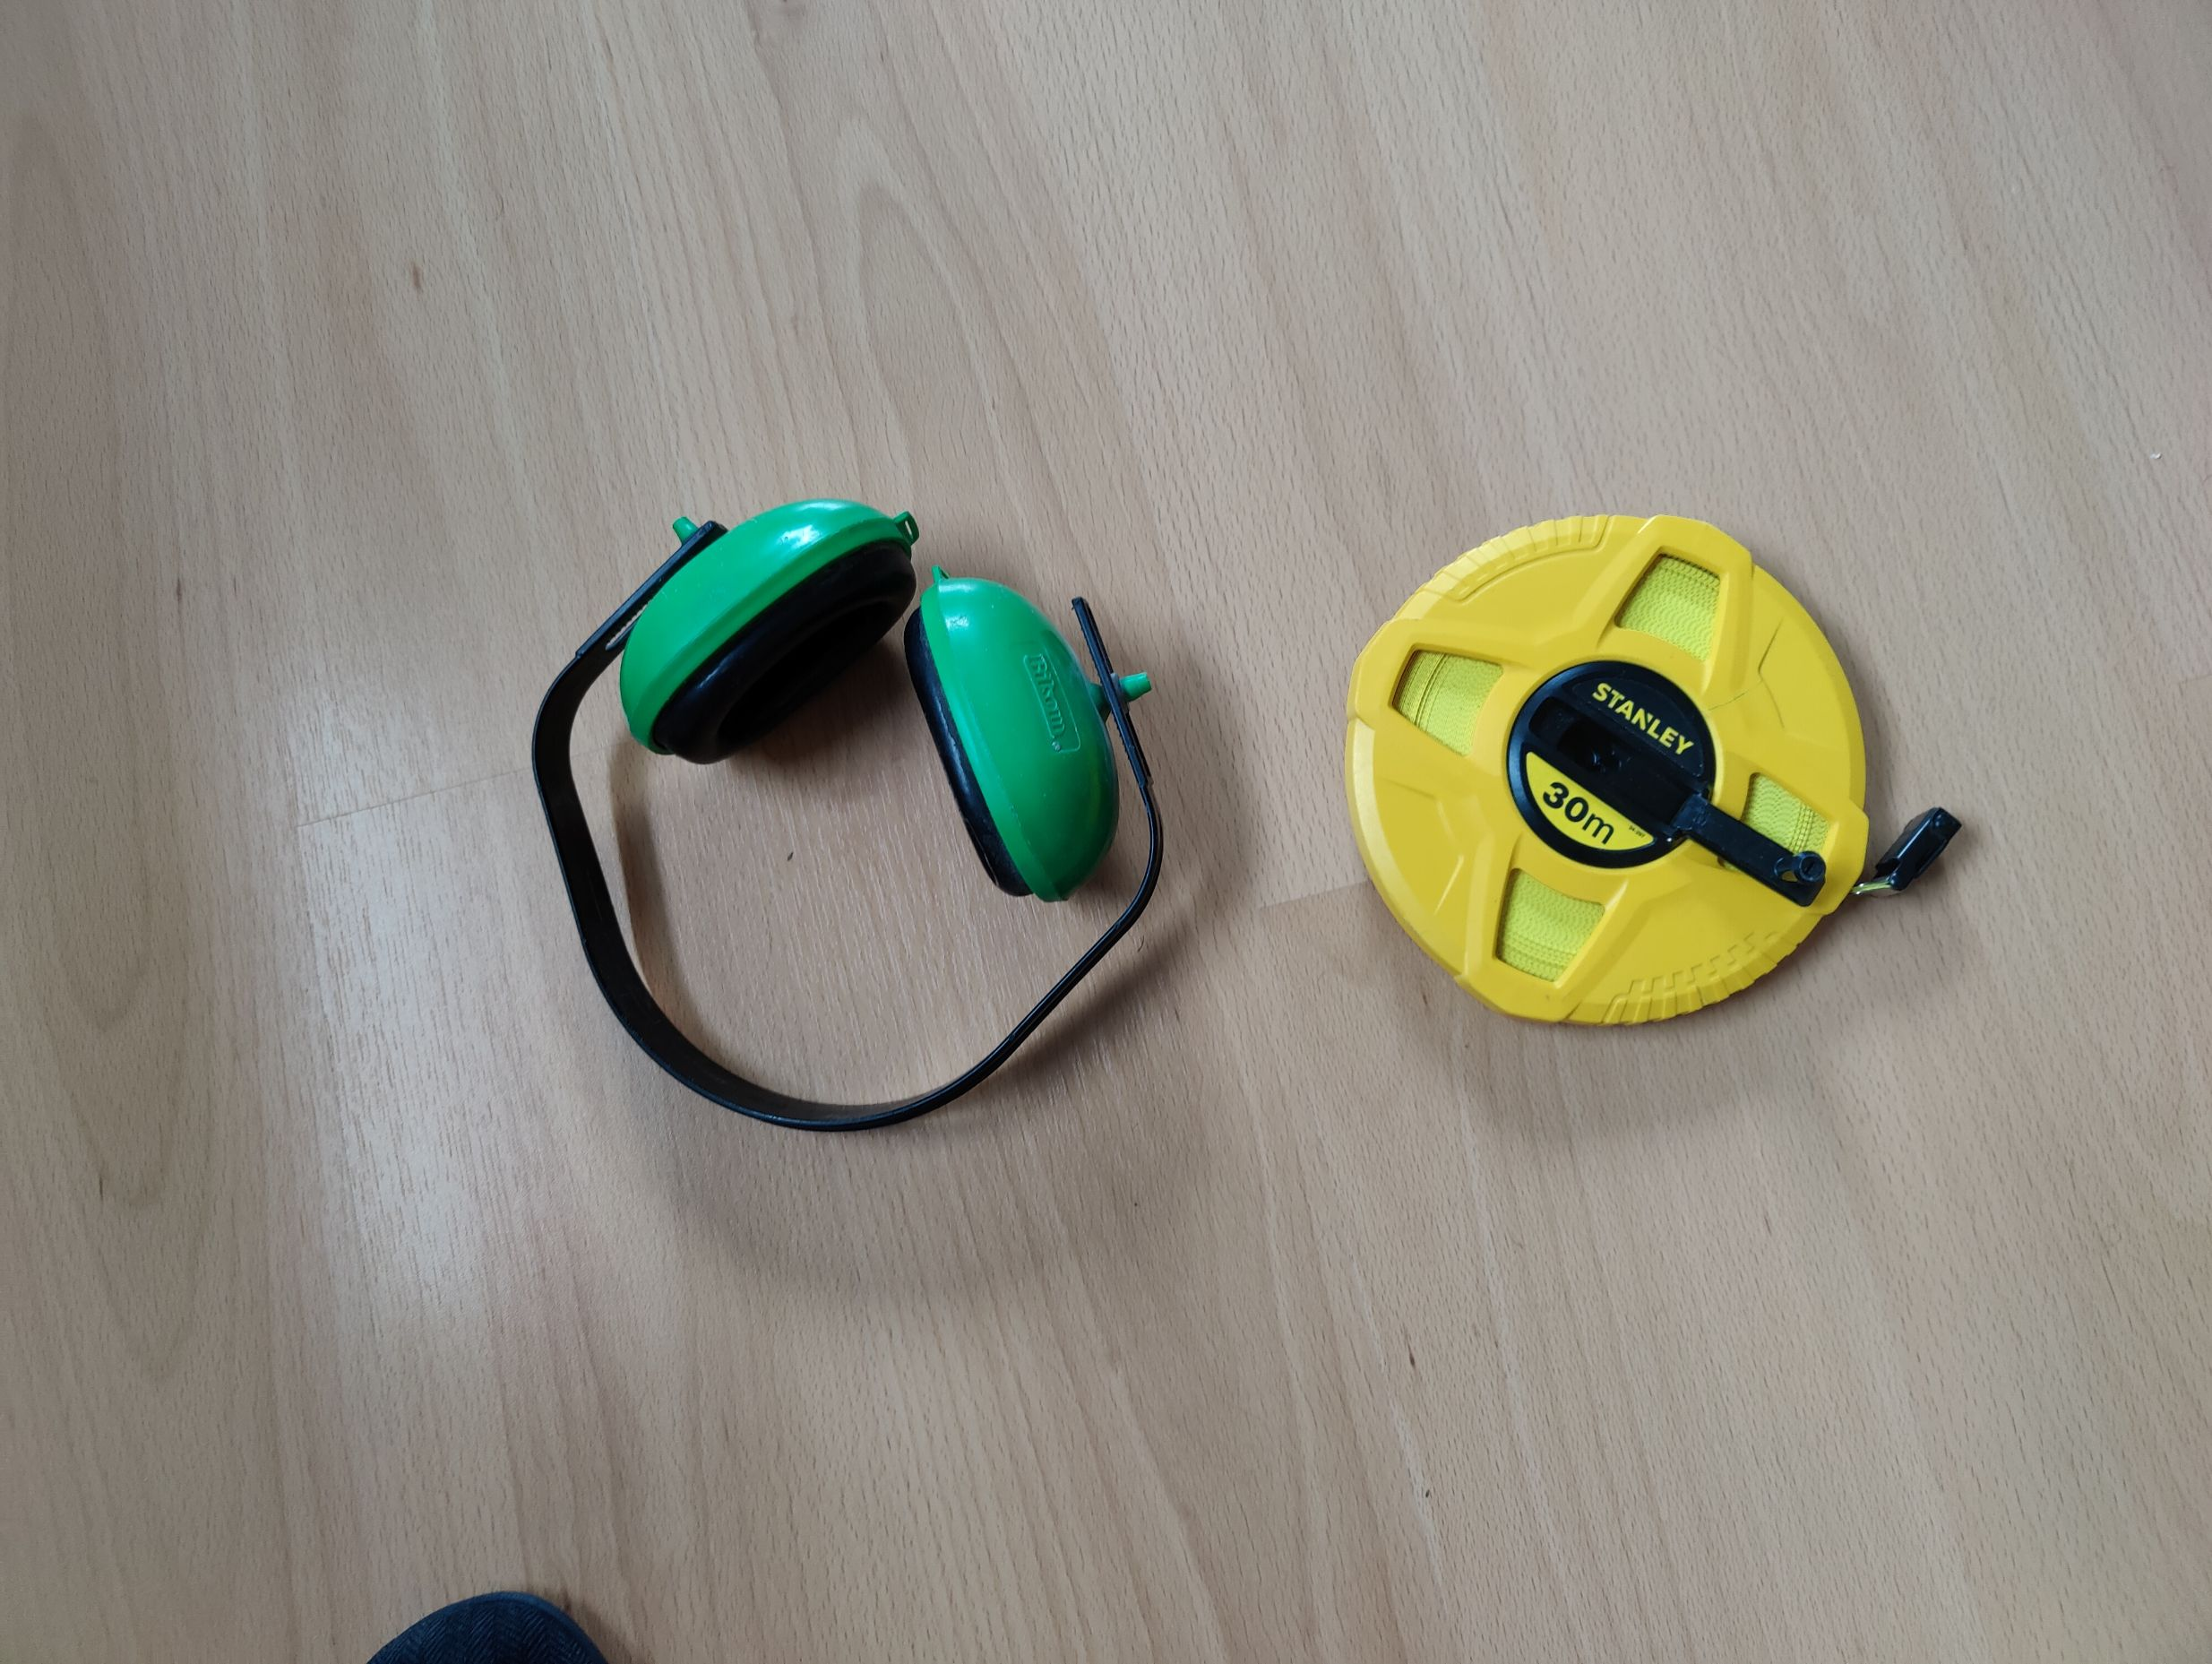headphones: (524, 505, 1169, 1134)
tapemeasure: (1338, 521, 1967, 1033)
